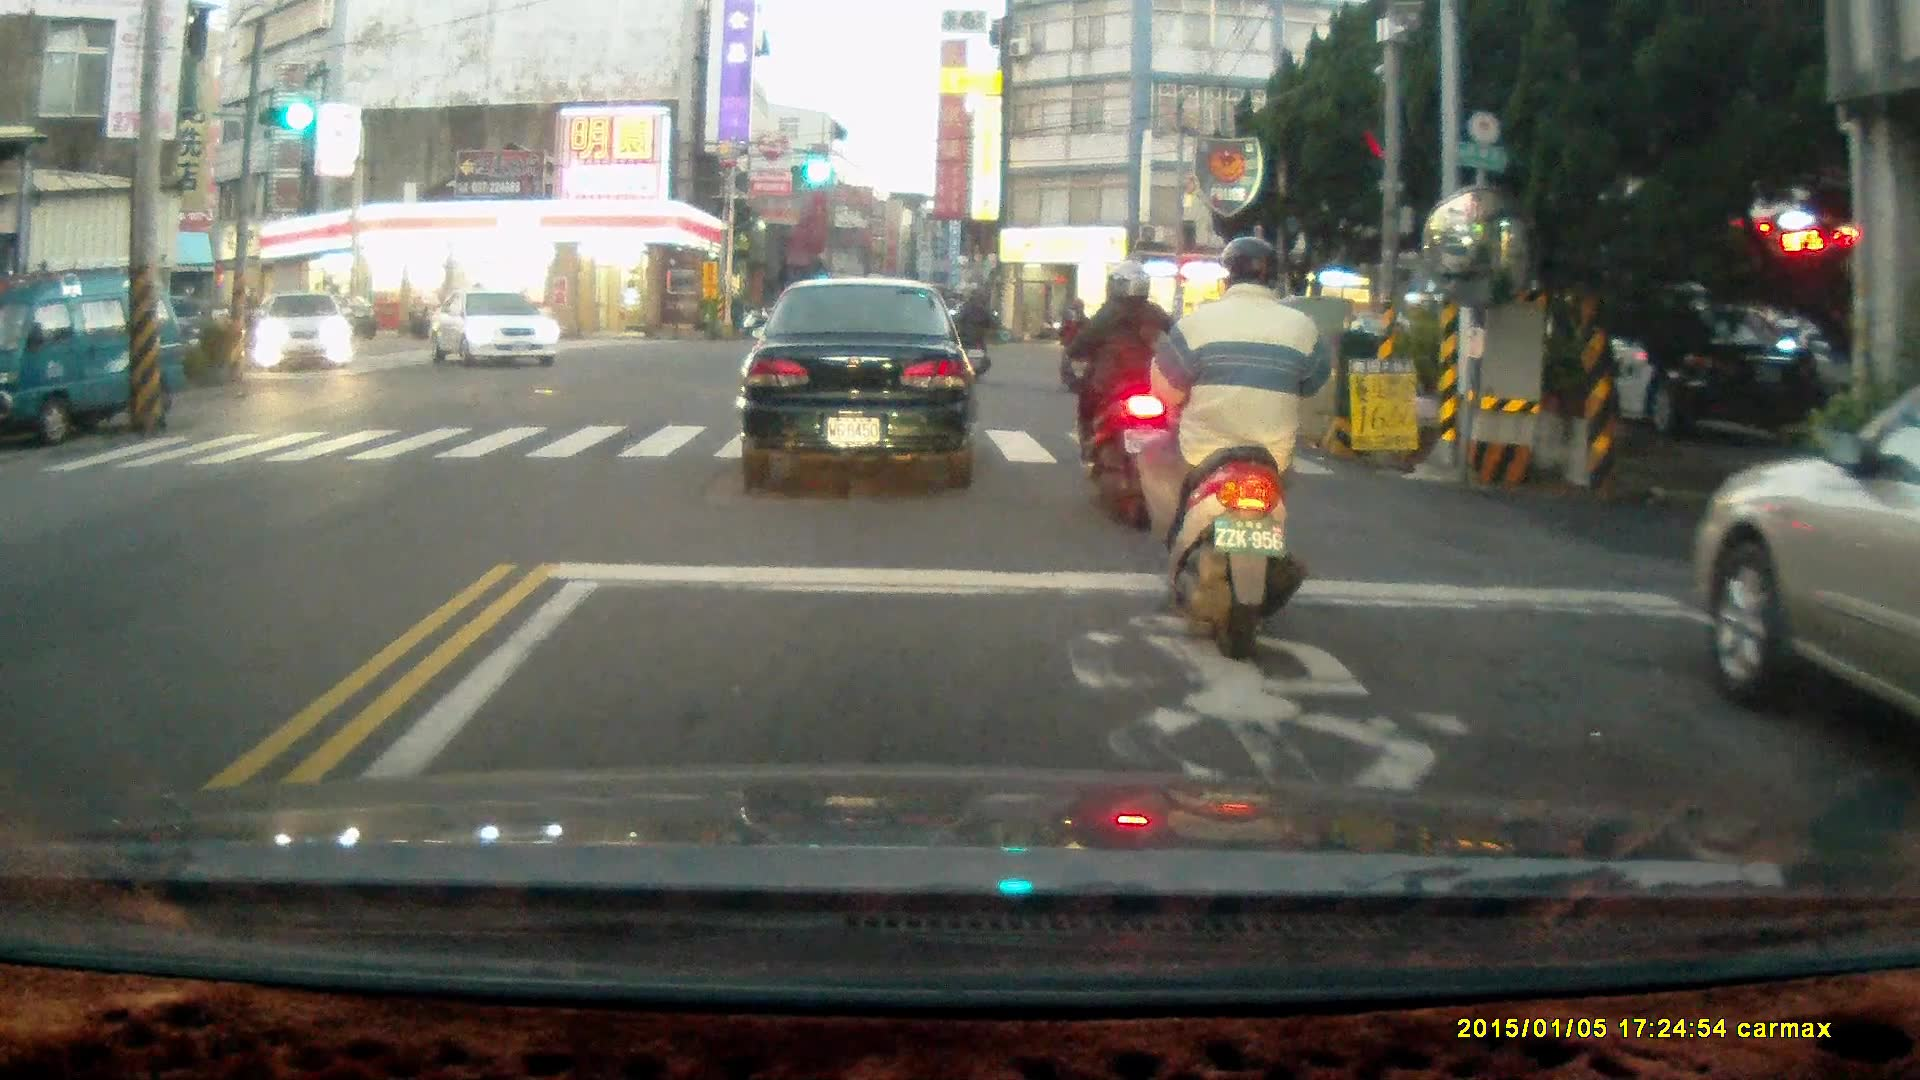rider: (1139, 234, 1340, 652), (1051, 255, 1187, 525), (946, 287, 997, 381), (1050, 296, 1095, 395)
vehicle: (1690, 352, 1920, 784), (737, 277, 980, 490), (1493, 286, 1823, 436), (1, 268, 192, 450), (426, 288, 562, 370), (249, 293, 358, 374)
